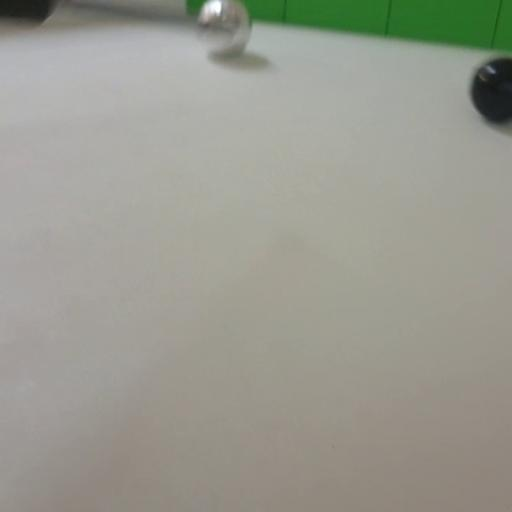alive: (194, 0, 251, 58)
dead: (468, 56, 512, 125)
